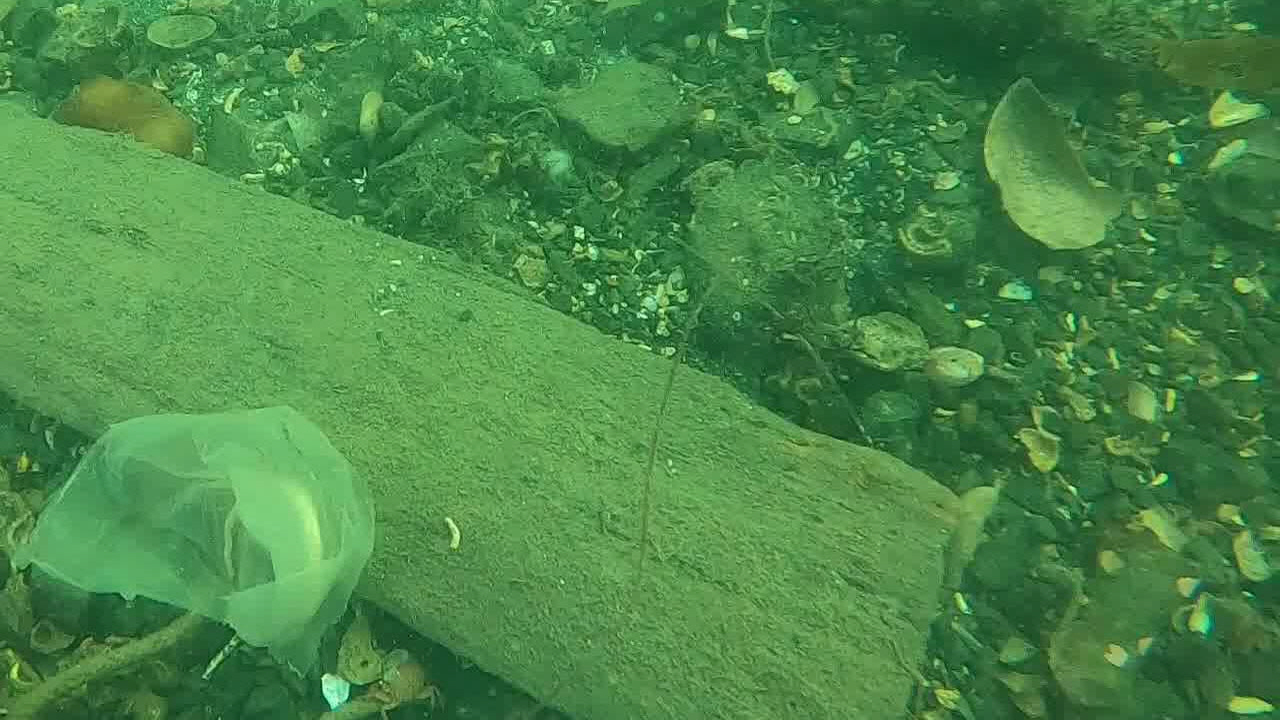wood: (0, 92, 961, 720)
